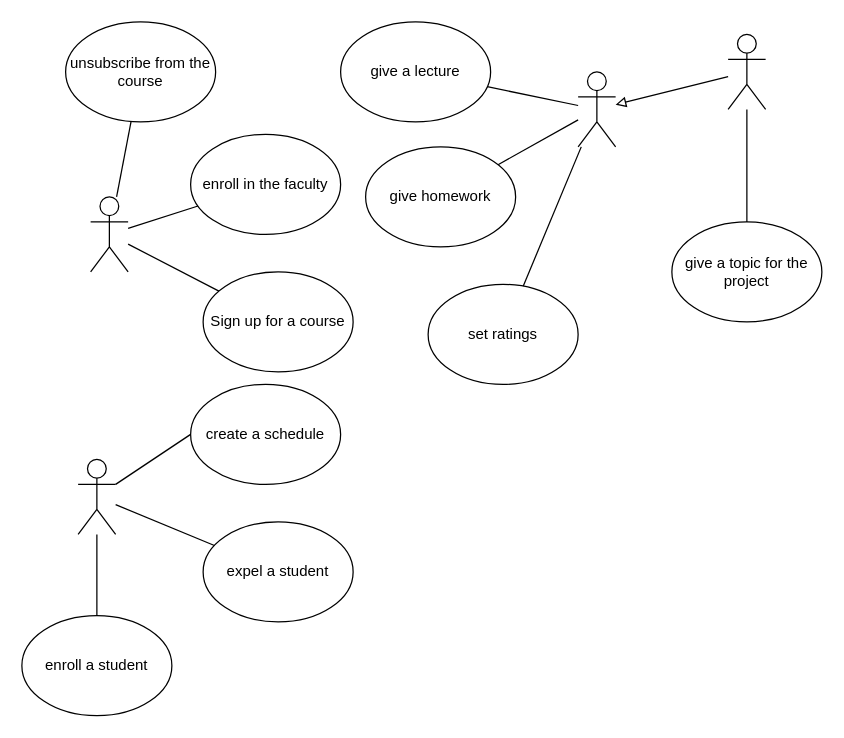
The diagram is 844 pixels wide and 738 high, and some of its shapes have lost their labels. Here are the shapes that lost their labels. From the top down, the centre of each, then its label:
the point at 746,71: scientific supervisor
the point at 596,109: Lecturer
the point at 108,234: Student
the point at 96,496: dean
